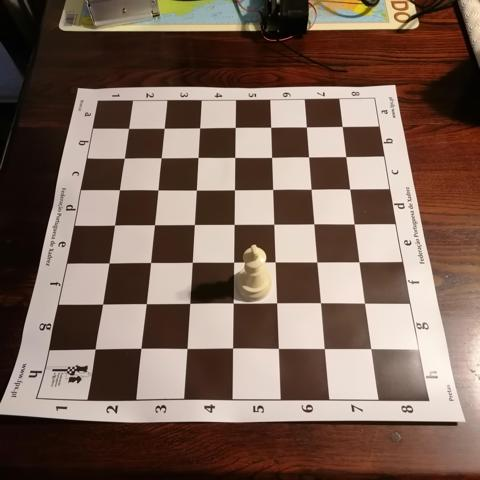xcorner: (340, 149, 357, 166), (269, 296, 286, 313), (131, 341, 148, 358), (337, 119, 353, 136), (300, 120, 317, 136), (191, 120, 208, 136), (344, 182, 361, 198), (185, 217, 202, 233), (104, 217, 121, 233), (98, 255, 115, 271), (314, 296, 330, 313), (225, 296, 241, 313), (136, 296, 153, 312), (224, 342, 241, 358), (178, 341, 194, 358), (85, 341, 102, 357), (264, 120, 280, 136), (228, 120, 244, 136), (155, 120, 171, 136), (119, 120, 135, 136), (303, 150, 319, 166), (265, 150, 281, 166), (227, 150, 243, 166), (190, 150, 206, 166), (152, 150, 168, 166), (115, 150, 131, 166), (305, 182, 321, 198), (266, 182, 282, 198), (227, 182, 243, 198), (188, 182, 204, 198), (149, 182, 165, 198), (110, 182, 126, 198), (349, 217, 365, 233), (308, 217, 324, 233), (267, 217, 283, 233), (226, 217, 242, 233), (145, 217, 161, 233), (354, 255, 370, 271), (311, 255, 327, 271), (268, 255, 284, 271), (226, 255, 242, 271), (183, 255, 199, 271), (141, 255, 157, 271), (359, 297, 375, 313), (181, 296, 197, 312), (92, 296, 108, 312), (365, 342, 381, 358), (318, 342, 334, 358), (271, 342, 287, 358)
